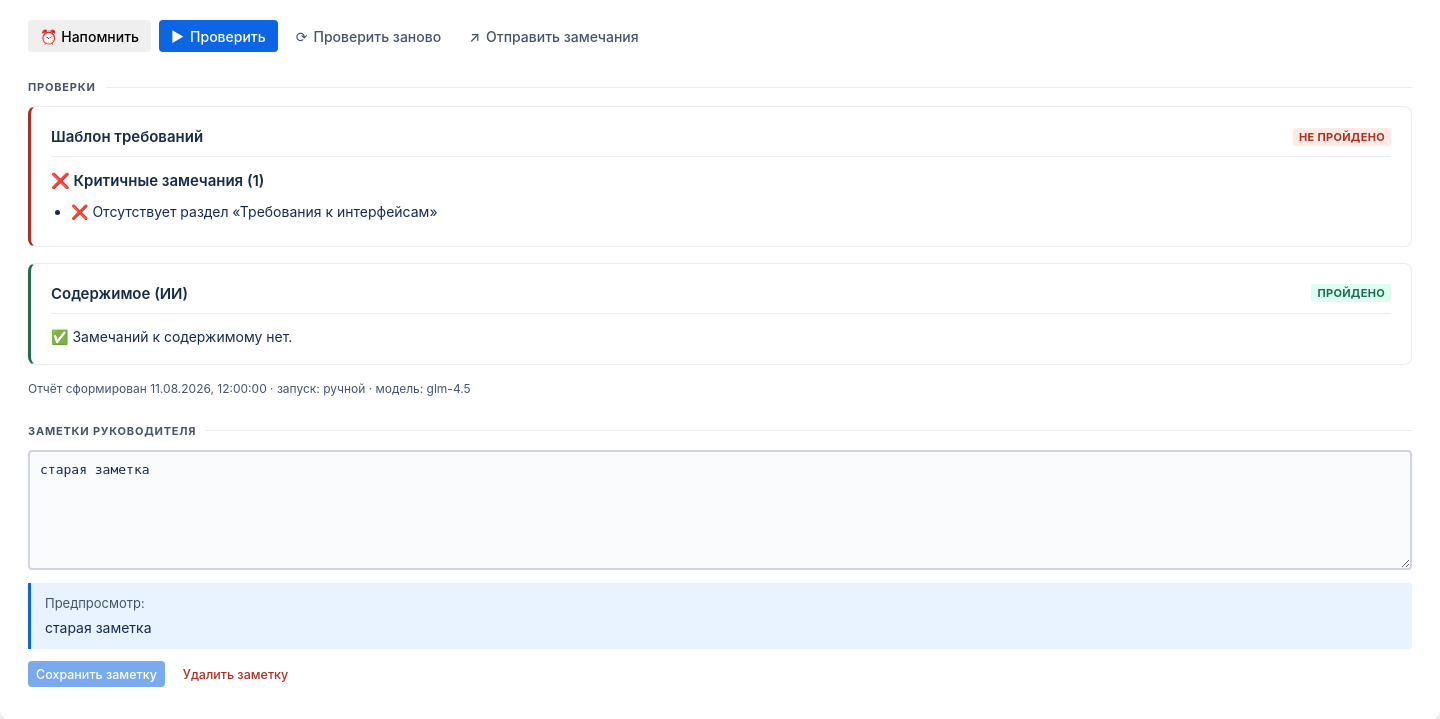
ReportPage › deletes the note and clears the editor
(page scrolled)
Click the button "Удалить заметку" at (236, 674), box [173,662,298,688]
(page scrolled)
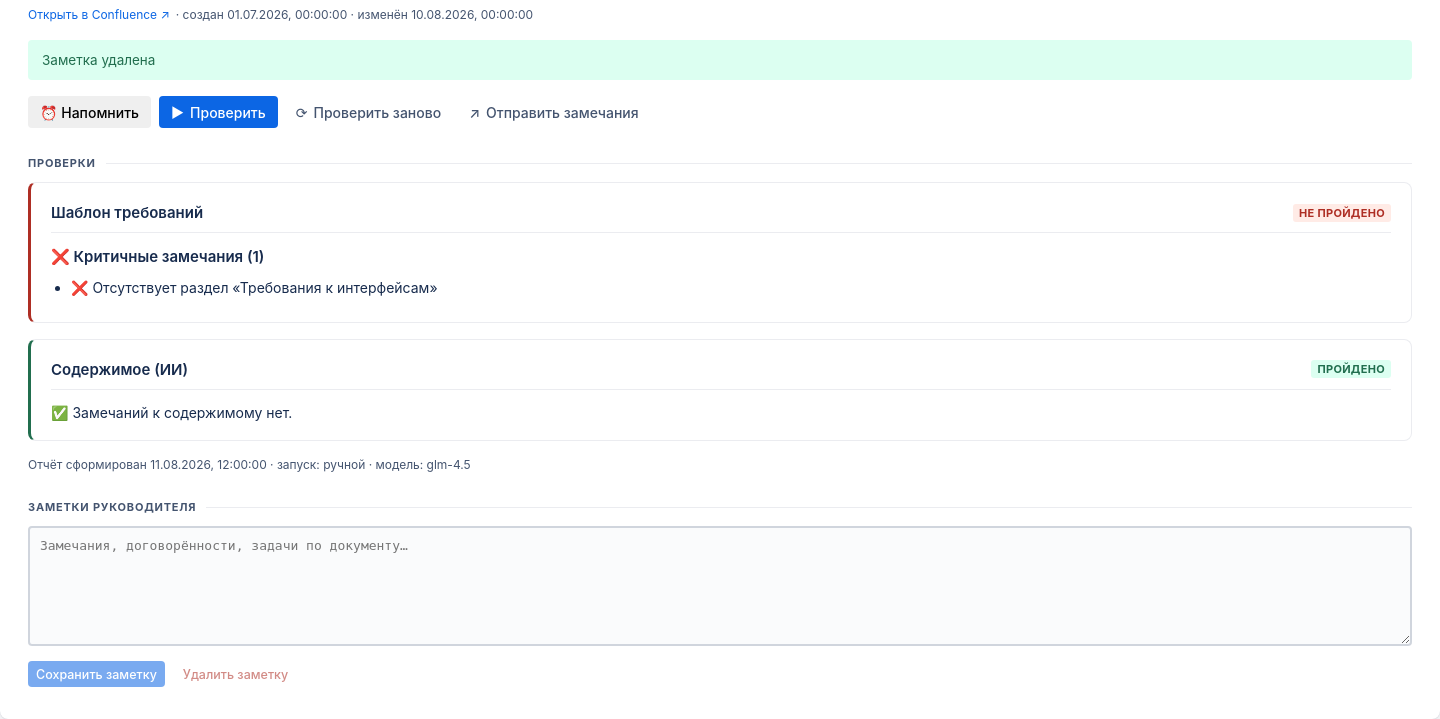
Check: the text "Заметка удалена" is shown, box [28,40,1412,80]
Check: the text showing "старая заметка" is gone
